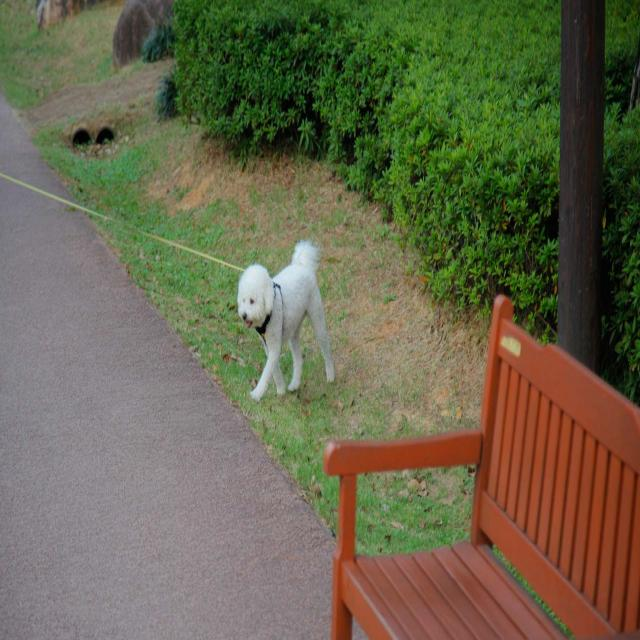Dog: (237, 240, 335, 402)
